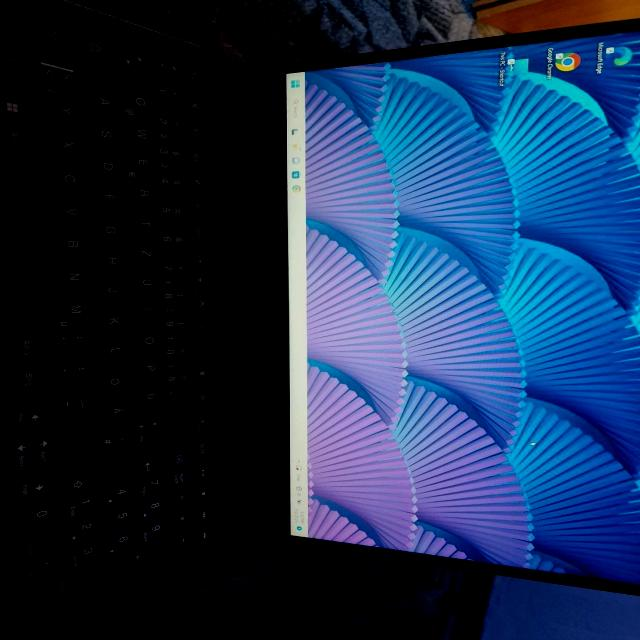0: (165, 344, 191, 368)
1: (156, 83, 183, 112)
2: (158, 114, 184, 142)
3: (159, 144, 185, 171)
4: (160, 174, 186, 200)
5: (160, 203, 186, 229)
6: (162, 232, 188, 256)
7: (162, 261, 188, 285)
8: (162, 289, 189, 313)
9: (164, 316, 190, 342)
a: (85, 90, 116, 120)
accent: (167, 398, 193, 422)
ae: (100, 403, 130, 431)
alt-left: (0, 125, 39, 163)
altgr-right: (10, 334, 52, 364)
b: (53, 234, 87, 264)
c: (49, 167, 83, 203)
caret: (155, 57, 181, 81)
comma: (56, 332, 90, 362)
d: (89, 156, 119, 186)
del: (167, 425, 192, 465)
e: (124, 153, 154, 181)
enter: (100, 446, 162, 482)
f: (91, 189, 121, 217)
g: (92, 221, 122, 247)
h: (92, 252, 123, 280)
hash: (100, 432, 130, 458)
i: (131, 304, 159, 329)
j: (94, 283, 125, 311)
k: (95, 314, 125, 340)
keyboard: (0, 6, 222, 624)
l: (96, 343, 128, 370)
less: (40, 62, 77, 95)
m: (55, 299, 90, 329)
minus: (61, 393, 94, 426)
n: (54, 267, 88, 295)
o: (132, 332, 160, 358)
oe: (98, 373, 128, 401)
p: (133, 361, 161, 387)
plus: (133, 418, 163, 445)
point: (58, 363, 92, 393)
q: (121, 90, 151, 120)
r: (127, 184, 155, 212)
s: (87, 123, 117, 153)
shift-left: (39, 21, 75, 65)
shift-lock: (82, 34, 114, 88)
shift-right: (63, 428, 95, 495)
space: (4, 161, 50, 331)
ss: (166, 371, 192, 395)
strg-left: (0, 6, 31, 50)
strg-right: (12, 366, 52, 399)
t: (128, 215, 156, 243)
tab: (120, 46, 151, 86)
u: (129, 274, 159, 300)
ue: (134, 390, 162, 416)
v: (50, 202, 84, 231)
w: (123, 122, 153, 151)
x: (45, 134, 80, 166)
y: (43, 98, 79, 132)
z: (129, 245, 157, 271)
